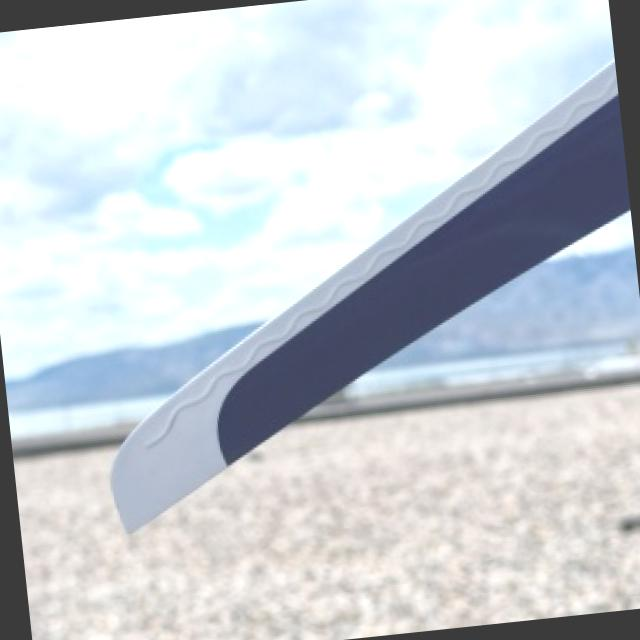healthy: (113, 62, 624, 526)
